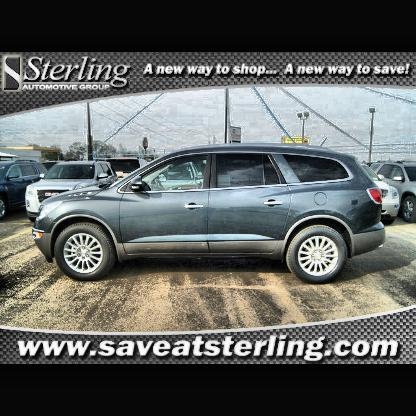Buick Enclave SUV 2012: (33, 148, 389, 283)
